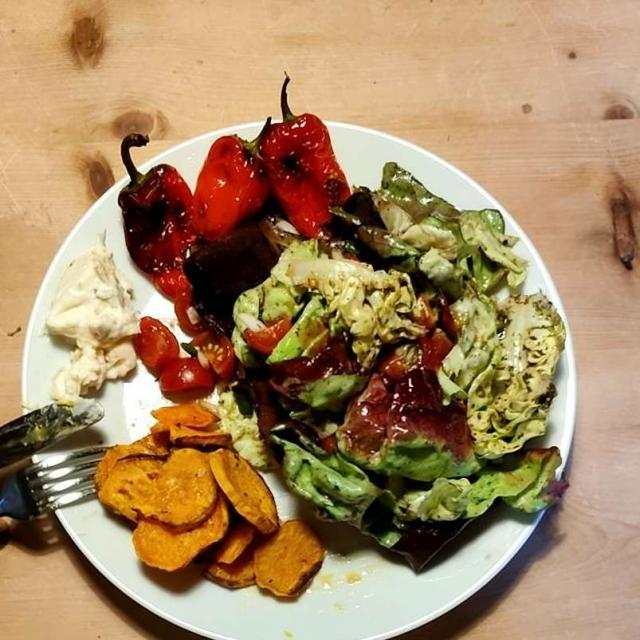bell-pepper: (124, 105, 342, 288)
salad: (180, 174, 559, 565), (358, 338, 460, 443)
sweet-potato: (100, 395, 330, 603)
tomato: (135, 304, 286, 392)
